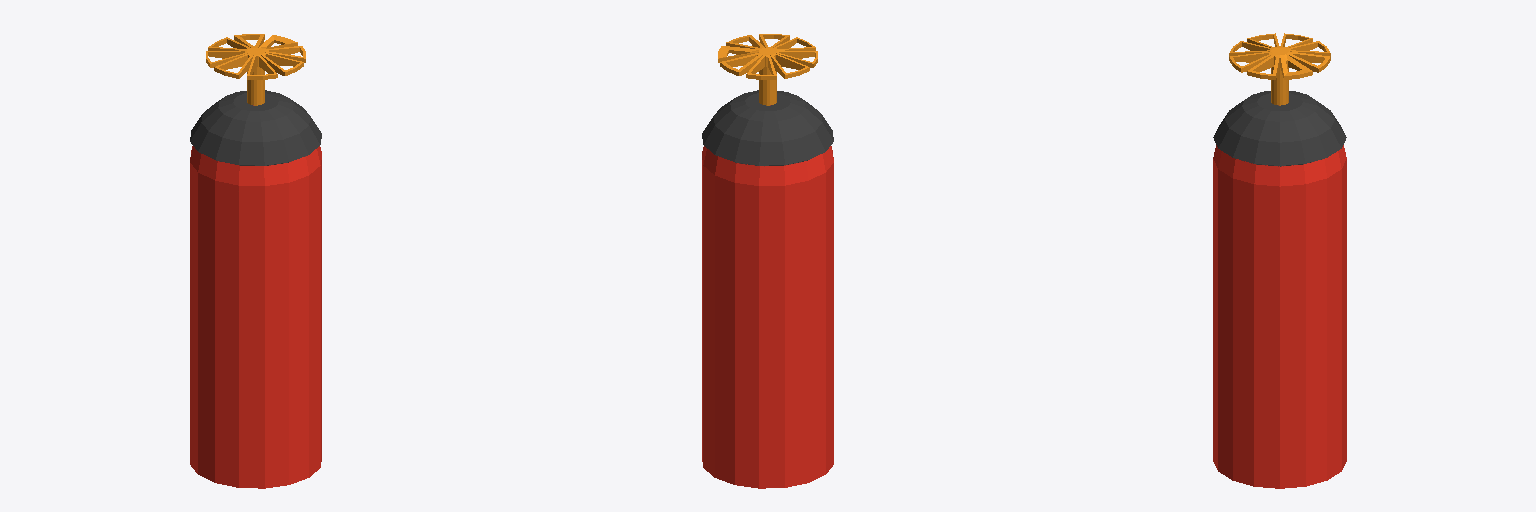
3 renders of one model, left to right at view 1: azimuth 30°, elevation 25°; view 2: azimuth 150°, elevation 25°; view 3: azimuth 270°, elevation 25°, orthographic.
Visible parts, largest first — view 1: Cylinder; view 2: Cylinder; view 3: Cylinder.
Boxes of the visible parts, box(x1,y1,x2,y2) form: Cylinder: box(190, 34, 321, 488); Cylinder: box(702, 34, 833, 488); Cylinder: box(1213, 33, 1346, 488).
Bounding box in the file's own units: 2 × 6.75 × 2.
Materials: 1 (1 with a texture image).